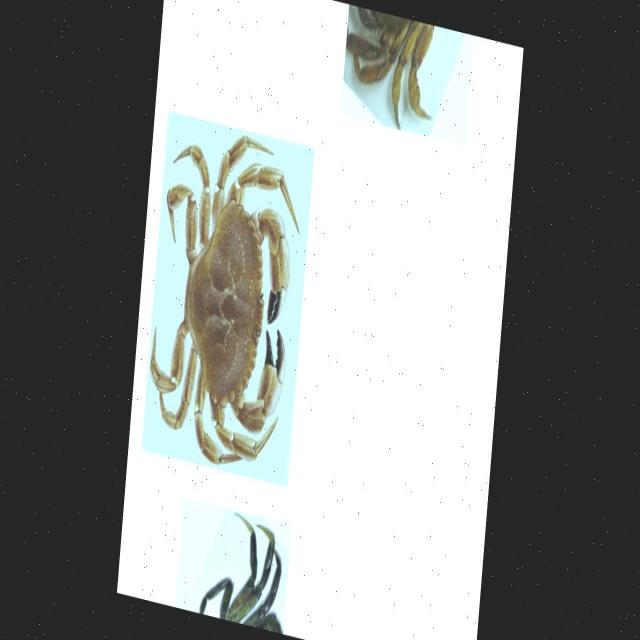egc: (198, 510, 286, 640)
